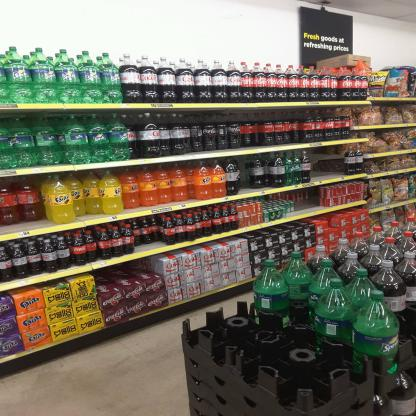Void: (314, 150, 343, 174), (97, 267, 148, 276), (238, 159, 250, 194), (300, 193, 316, 208)
